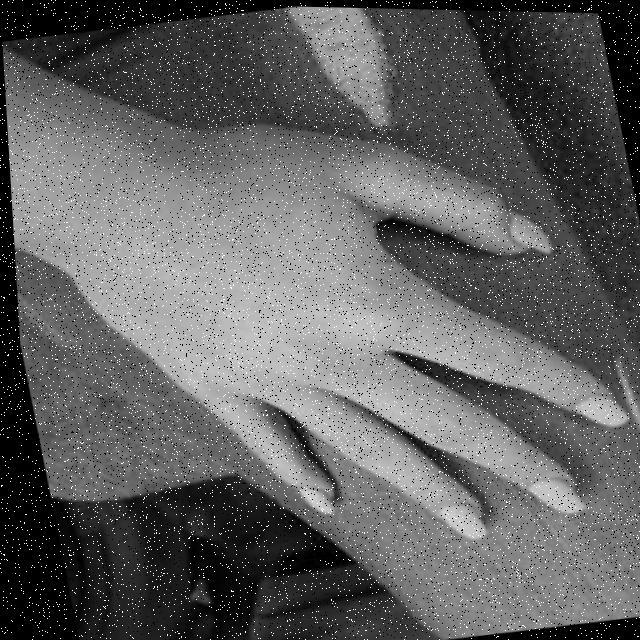no-gloves: (38, 75, 640, 591)
